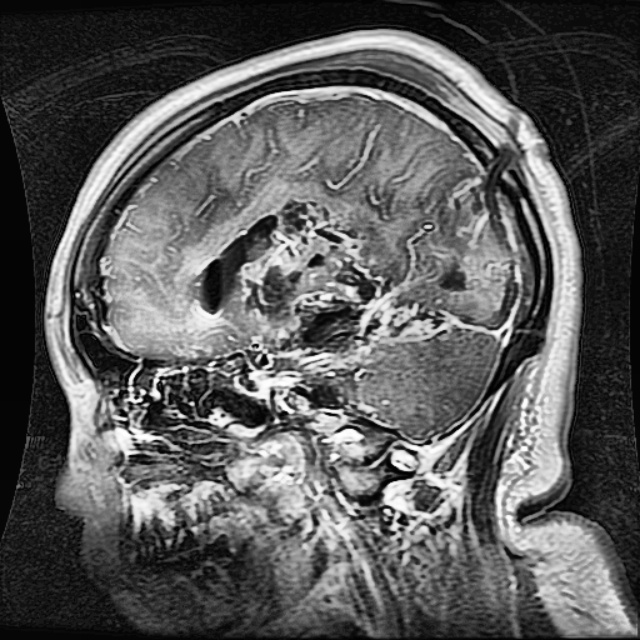Meningioma: (195, 197, 465, 373)
